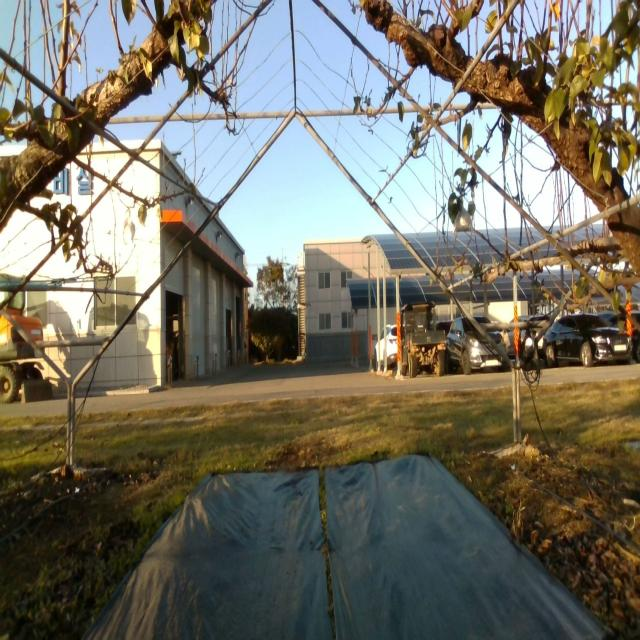pearbags: (454, 207, 475, 234), (123, 216, 136, 247)
